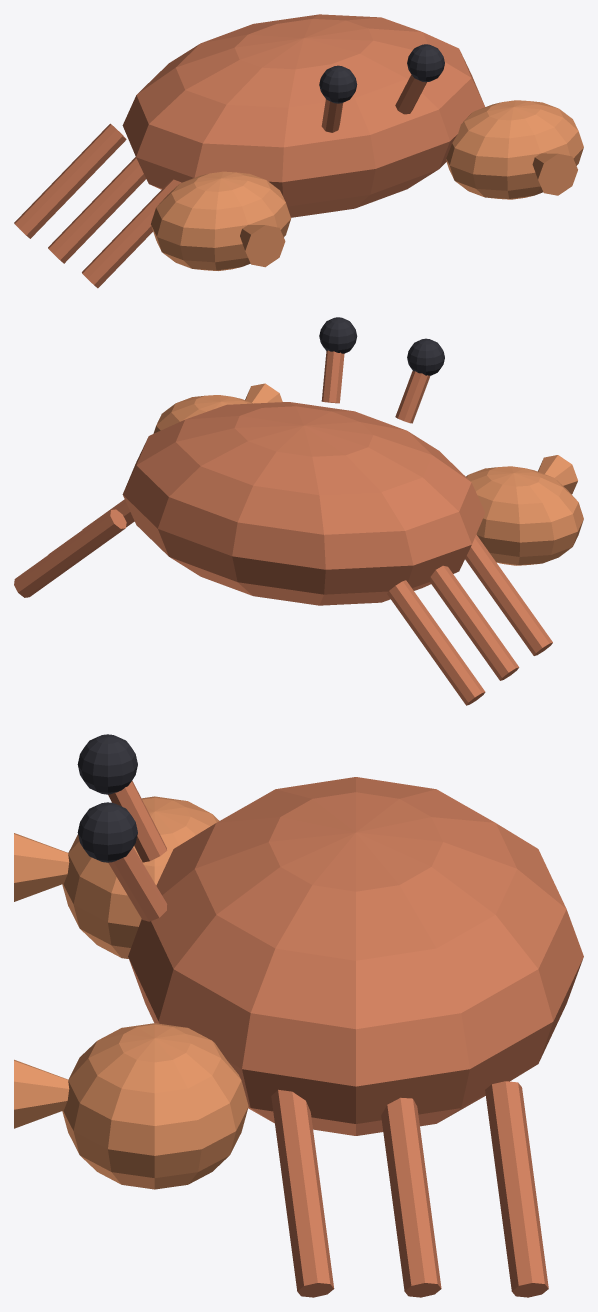
File: creature_crab_red.glb
3 views of the same model, one above another, from view 1: azimuth 30°, elevation 25°; view 2: azimuth 150°, elevation 25°; view 3: azimuth 270°, elevation 25° (orthographic). The views are drawn at different scales.
Parts seen in each view (by area): view 1: creature_crab_red; view 2: creature_crab_red; view 3: creature_crab_red.
Part boxes in pixels (<box>): creature_crab_red: <box>14,14,583,288</box>; creature_crab_red: <box>14,317,583,705</box>; creature_crab_red: <box>14,734,583,1297</box>.
Bounding box in the file's own units: 2.18 × 1 × 1.45.
